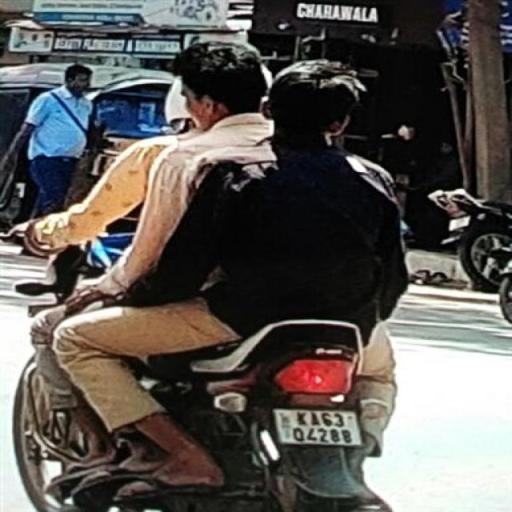tripple riding: (27, 39, 418, 315)
